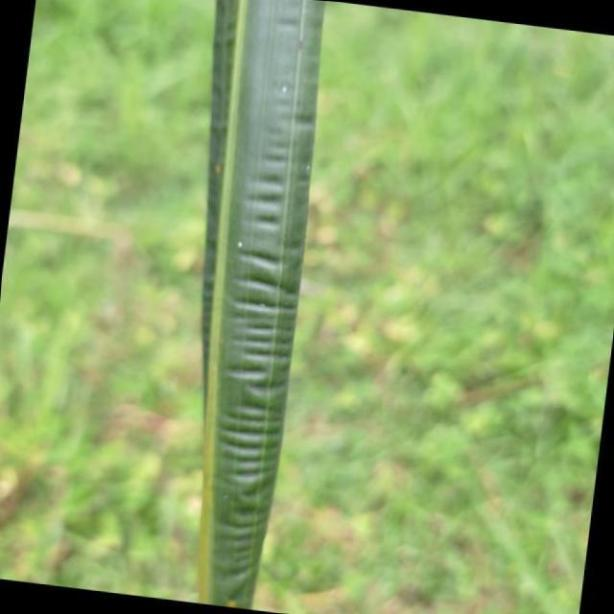Boron: (197, 0, 324, 614)
